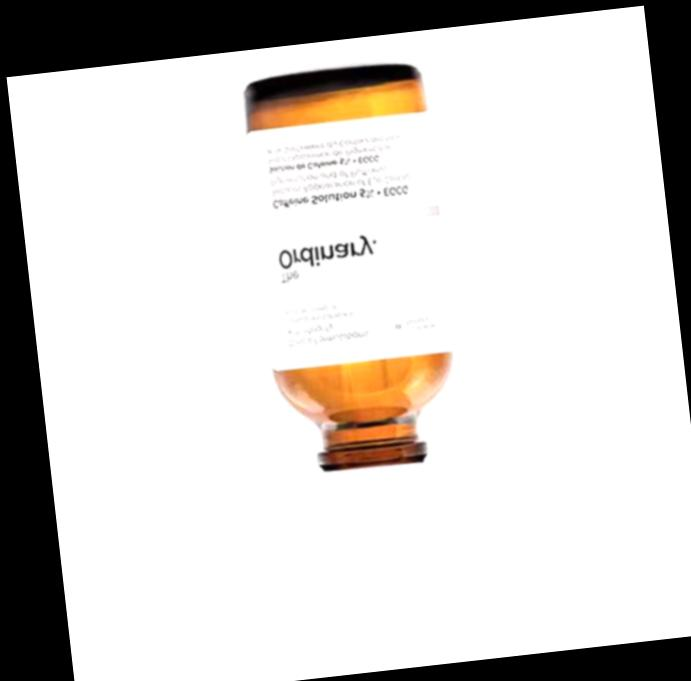cosmetic: (237, 62, 488, 652)
